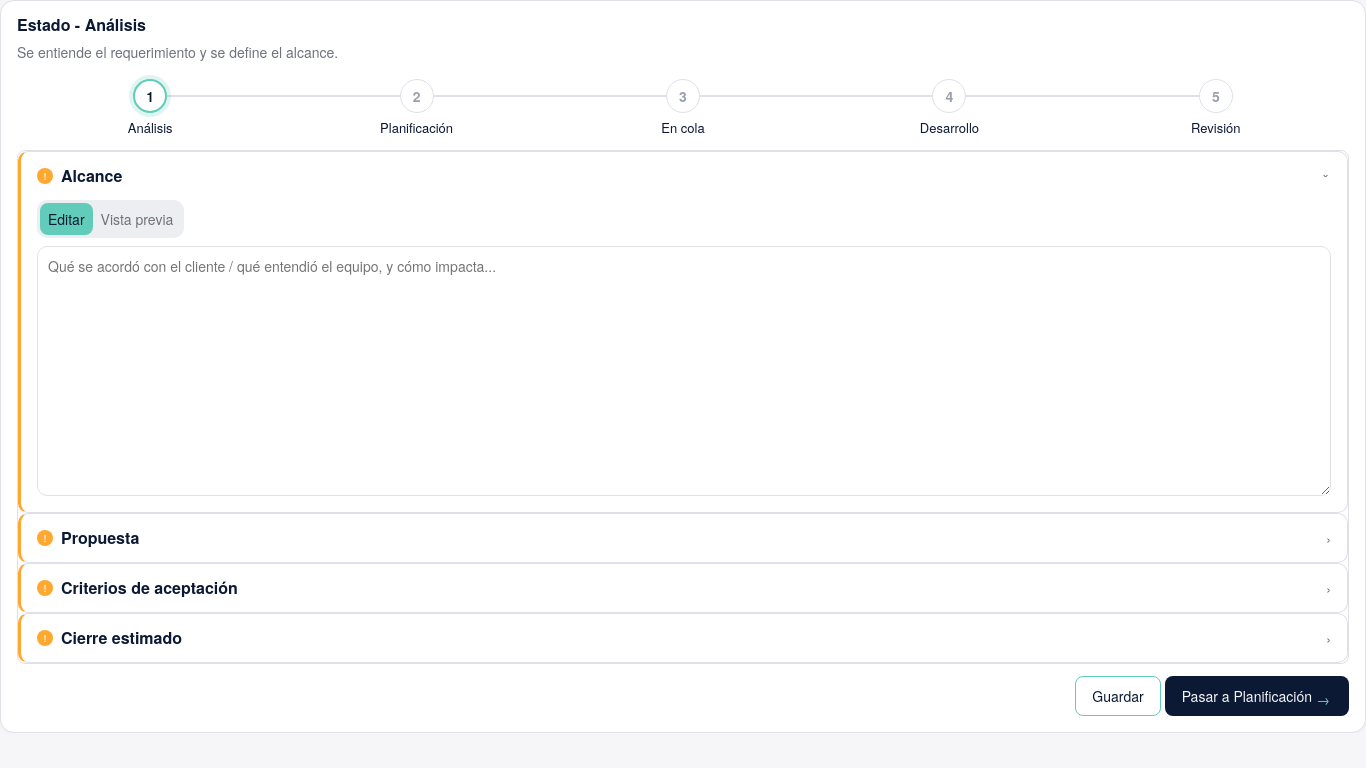
it: RequirementStatusCard › S-086: toggle Editar/Vista previa en los campos markdown › TS-3: Vista previa de Alcance vacío muestra el placeholder, no un renderizado vacío
This screenshot has width=1366, height=768.
Click the radio button "Vista previa" at (137, 219), box [93,203,181,235]
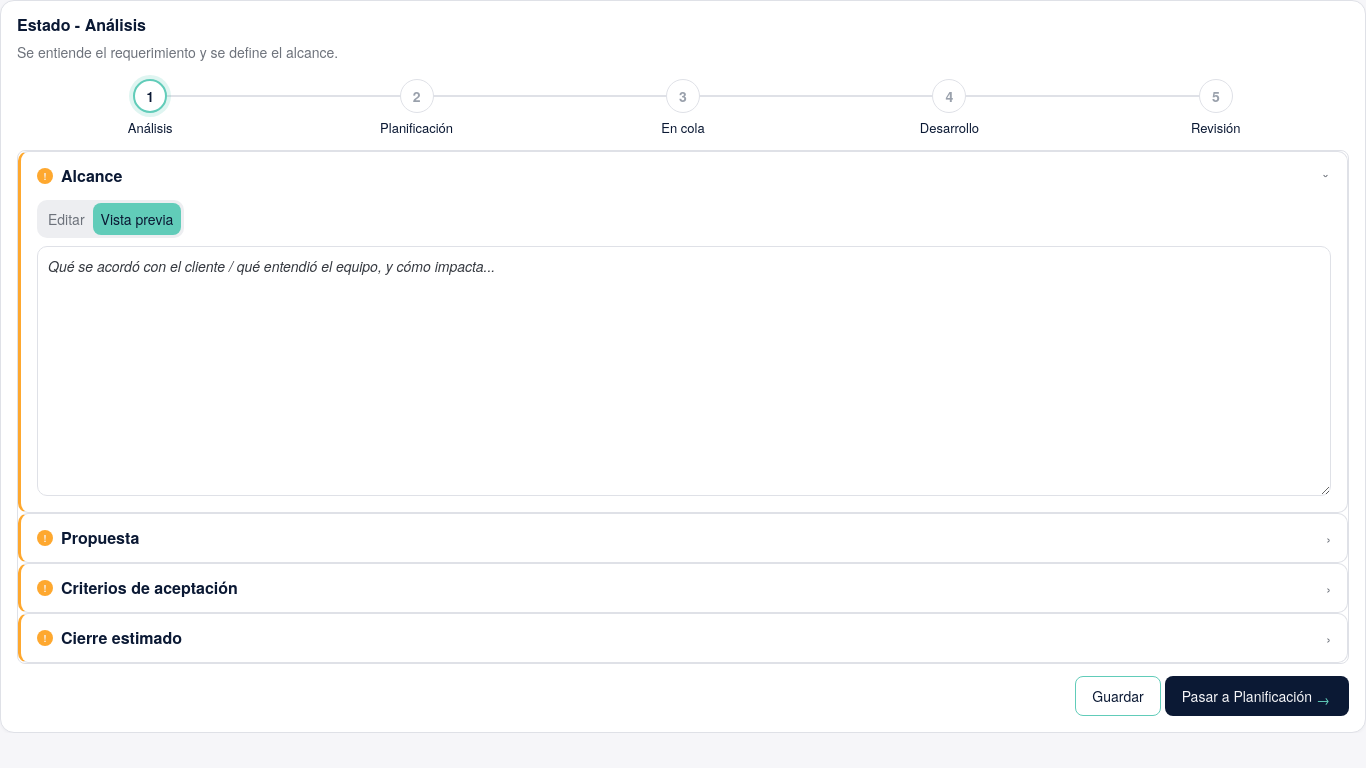
Check: the text "Qué se acordó con el cliente / qué entendió el equipo, y cómo impacta..." is shown, box [48,256,495,276]
